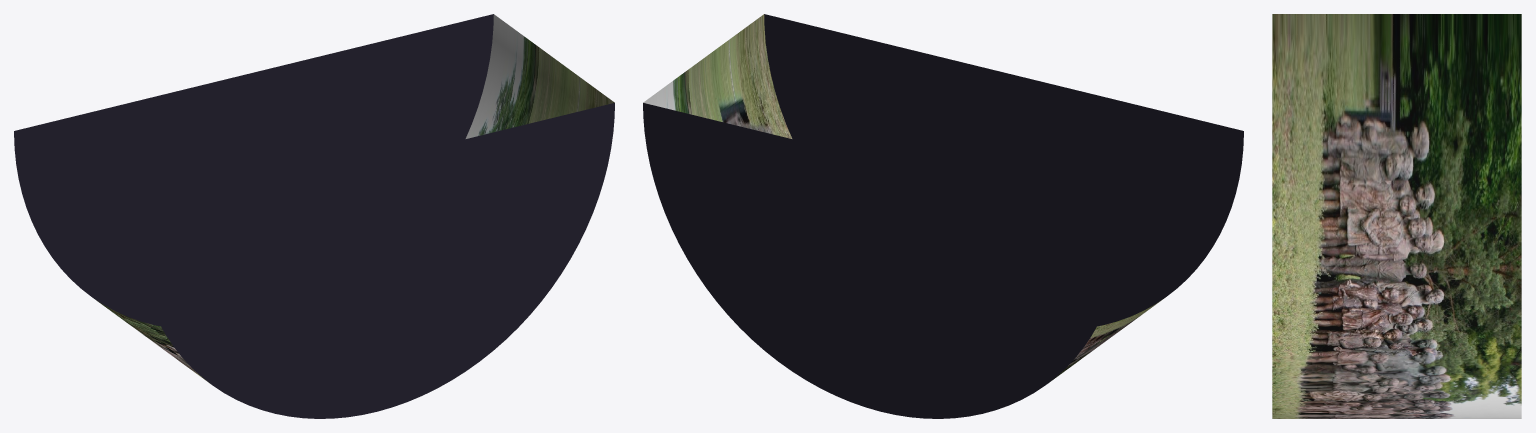
Rendered from kinder.glb.
The picture shows the model from 3 angles, left to right: view 1: azimuth 30°, elevation 25°; view 2: azimuth 150°, elevation 25°; view 3: azimuth 270°, elevation 25°; orthographic projection. The views are drawn at different scales.
Parts seen in each view (by area): view 1: root, Komponente#2; view 2: root, Komponente#2; view 3: Komponente#2.
Boxes of the visible parts, x1=… form: root: x1=14, y1=14, x2=614, y2=418; Komponente#2: x1=95, y1=14, x2=614, y2=383; root: x1=643, y1=14, x2=1243, y2=418; Komponente#2: x1=643, y1=14, x2=1162, y2=383; Komponente#2: x1=1272, y1=14, x2=1521, y2=418.
Bounding box in the file's own units: 4.44 × 2.22 × 1.94.
Materials: 3 (1 with a texture image).
